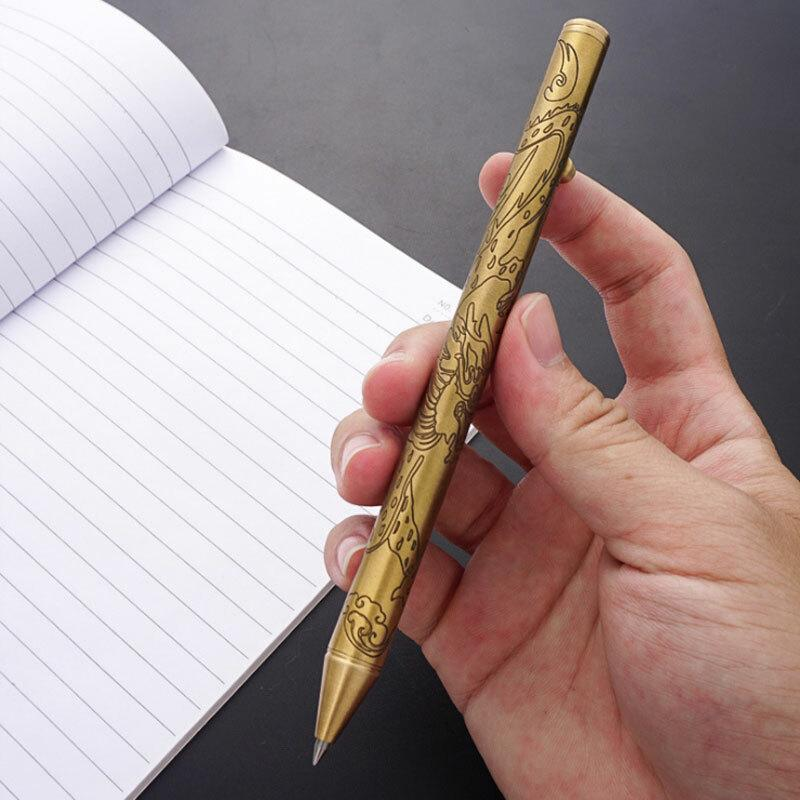Ballpen: (314, 19, 609, 765)
